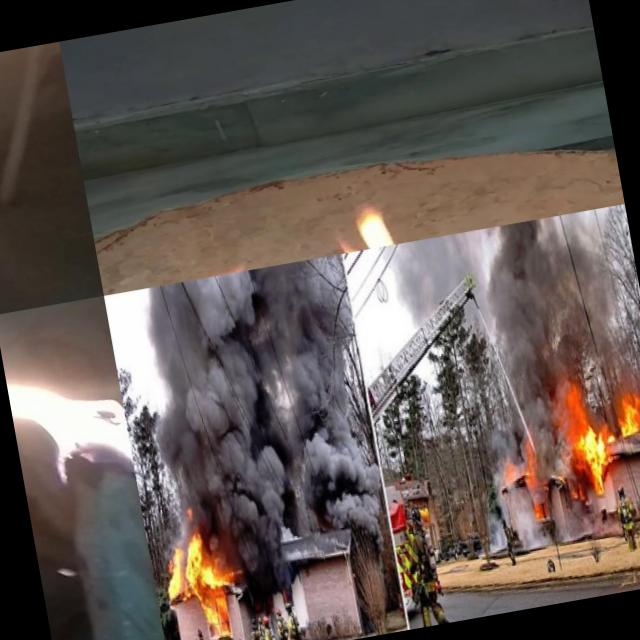fire: (0, 322, 137, 506), (162, 540, 233, 640), (564, 381, 616, 498), (611, 383, 640, 483), (500, 454, 530, 490)
smoke: (132, 252, 394, 548), (485, 219, 580, 482), (536, 210, 632, 370), (385, 228, 495, 310), (218, 530, 292, 602), (553, 494, 620, 542), (332, 512, 386, 563), (476, 479, 513, 551), (504, 486, 541, 550)
